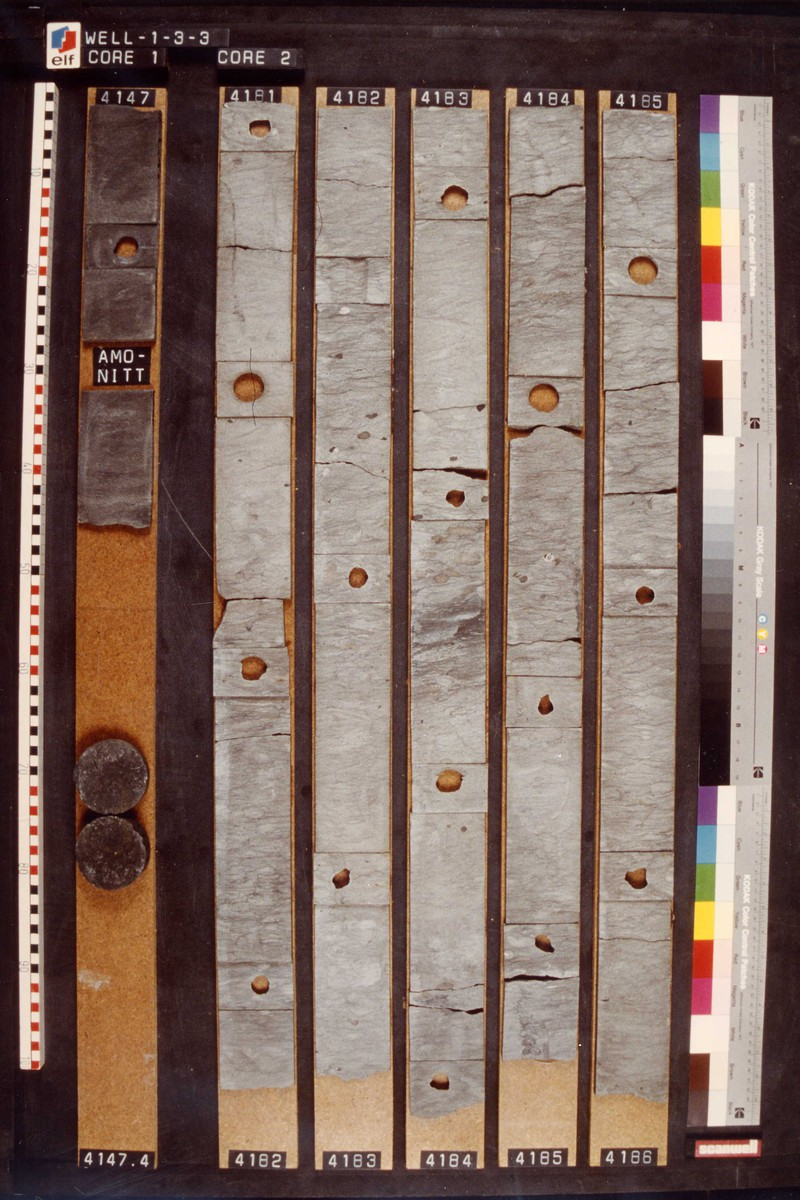core: (597, 108, 681, 1106), (215, 104, 297, 1092), (503, 106, 587, 1068), (314, 104, 392, 1080), (412, 105, 484, 1117), (77, 103, 160, 529), (74, 737, 155, 893)
